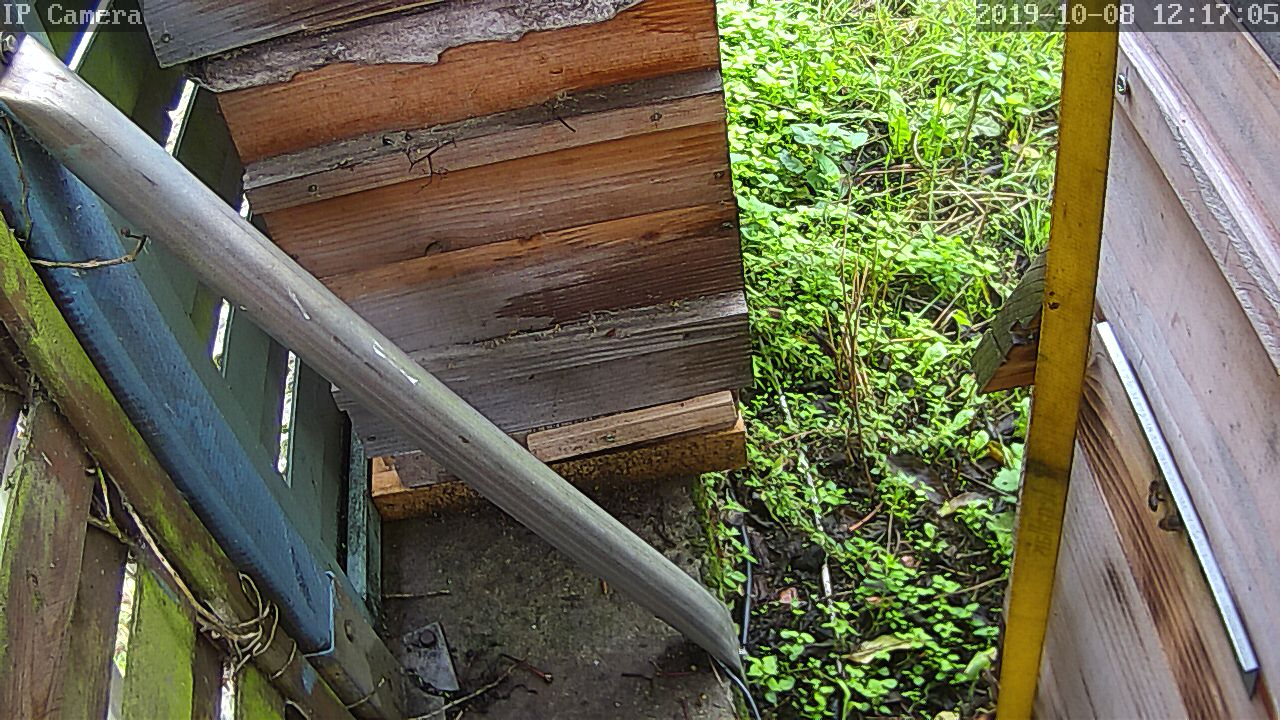bee: (1137, 480, 1185, 534)
